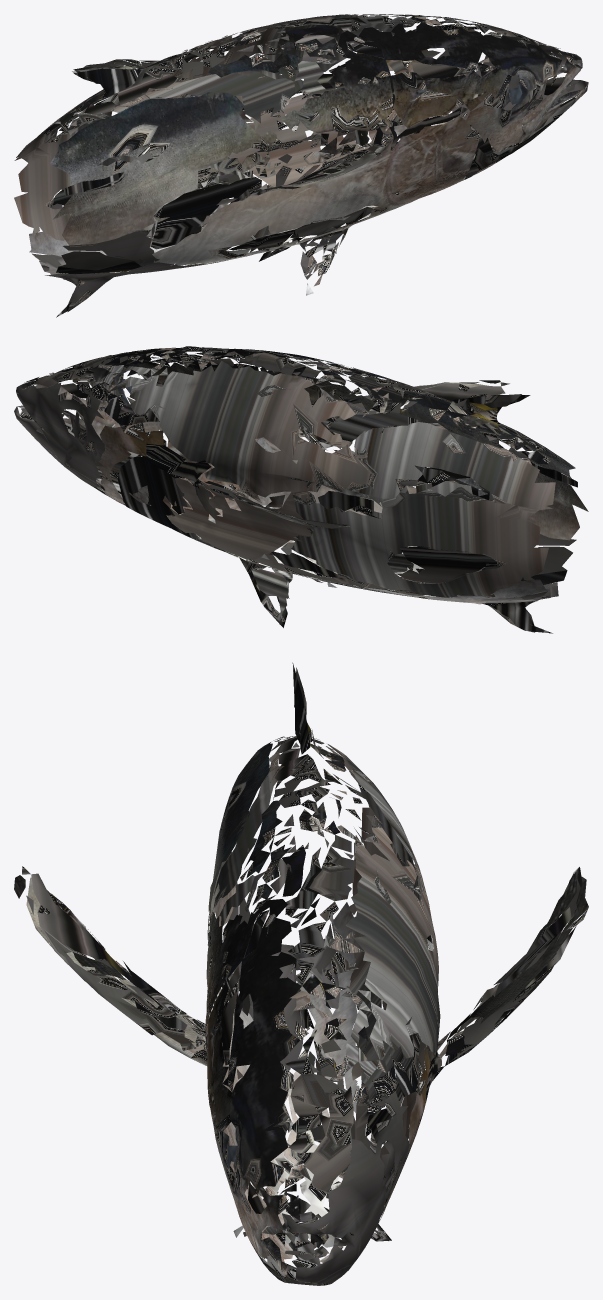
The model's file is yellowfin_a.glb.
3 views of the same model, one above another, from view 1: azimuth 30°, elevation 25°; view 2: azimuth 150°, elevation 25°; view 3: azimuth 270°, elevation 25° (orthographic). The views are drawn at different scales.
Parts seen in each view (by area): view 1: yellowfin_a; view 2: yellowfin_a; view 3: yellowfin_a.
Part boxes in pixels (box(x1,y1,x2,y2)): yellowfin_a: box(14, 14, 588, 317); yellowfin_a: box(14, 346, 588, 633); yellowfin_a: box(14, 662, 588, 1285).
Size of the model in its own units: 0.9675 by 0.4397 by 0.5541.
1 material, 1 textured.
